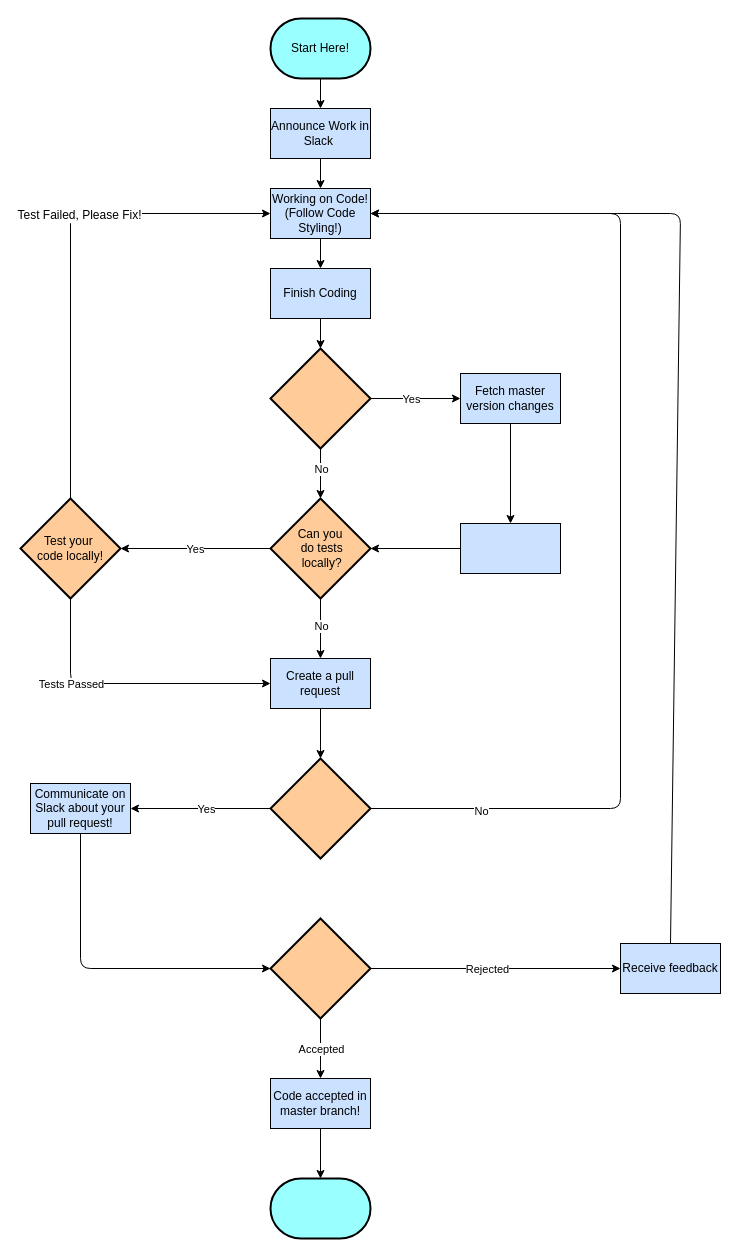
The diagram is 738 pixels wide and 1256 high, and some of its shapes have lost their labels. The box of each missing label's shape, as (x1, y1, x2, y2) in pixels:
End!: (269, 1177, 371, 1239)
Fix any merging conflicts!: (460, 522, 560, 574)
Has the master branch changed since?: (269, 347, 371, 449)
Passes tests and validators?: (269, 757, 371, 859)
Two reviewers view your pull request: (269, 917, 371, 1019)
